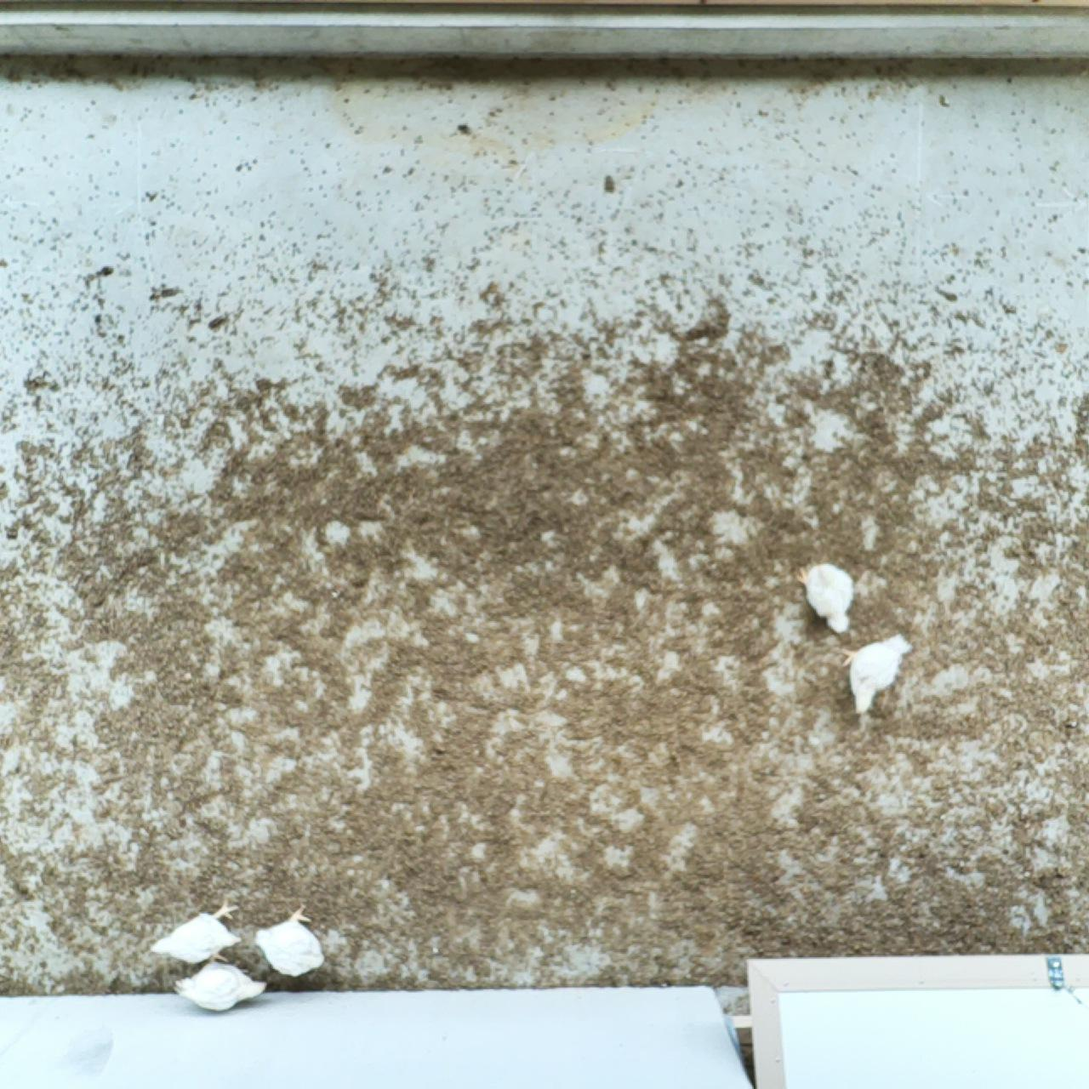chicken: (147, 892, 244, 969), (841, 628, 917, 720), (245, 901, 328, 982), (169, 956, 270, 1016), (794, 556, 858, 638)
